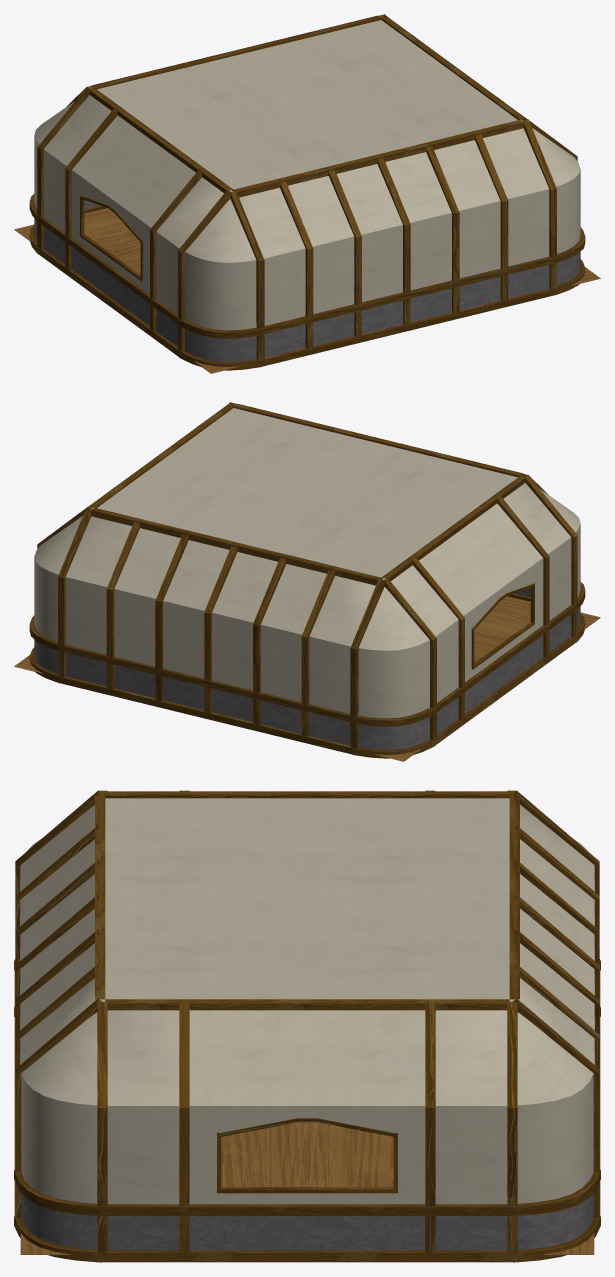
File: DefaultRoomV2.fbx
3 views of the same model, one above another, from view 1: azimuth 30°, elevation 25°; view 2: azimuth 150°, elevation 25°; view 3: azimuth 270°, elevation 25° (orthographic). The views are drawn at different scales.
Parts seen in each view (by area): view 1: Wall.002, Plane.009, Beam.002, Rock.002, Beam.003, Beam.010, Beam.001, Plane.004, Cube; view 2: Wall.002, Plane.009, Beam.002, Rock.002, Beam.003, Beam.010, Beam.001, Plane.004, Cube; view 3: Wall.002, Plane.009, Beam.002, Rock.002, Beam.003, Plane.004, Beam.010, Beam.001, Cube.
Part boxes in pixels (x1=…): Wall.002: x1=34, y1=95, x2=580, y2=330; Plane.009: x1=97, y1=20, x2=522, y2=191; Beam.002: x1=37, y1=14, x2=577, y2=360; Rock.002: x1=34, y1=200, x2=580, y2=362; Beam.003: x1=89, y1=15, x2=524, y2=197; Beam.010: x1=29, y1=194, x2=585, y2=338; Beam.001: x1=29, y1=205, x2=585, y2=370; Plane.004: x1=14, y1=208, x2=600, y2=373; Cube: x1=80, y1=195, x2=143, y2=281; Wall.002: x1=34, y1=483, x2=580, y2=718; Plane.009: x1=92, y1=408, x2=517, y2=579; Beam.002: x1=37, y1=402, x2=577, y2=748; Rock.002: x1=34, y1=588, x2=580, y2=750; Beam.003: x1=90, y1=403, x2=525, y2=585; Beam.010: x1=29, y1=582, x2=585, y2=726; Beam.001: x1=29, y1=593, x2=585, y2=758; Plane.004: x1=14, y1=596, x2=600, y2=761; Cube: x1=471, y1=583, x2=534, y2=669; Wall.002: x1=20, y1=805, x2=594, y2=1204; Plane.009: x1=102, y1=798, x2=512, y2=1001; Beam.002: x1=15, y1=790, x2=599, y2=1252; Rock.002: x1=21, y1=1193, x2=593, y2=1250; Beam.003: x1=95, y1=791, x2=519, y2=1010; Plane.004: x1=20, y1=1122, x2=594, y2=1254; Beam.010: x1=14, y1=959, x2=600, y2=1216; Beam.001: x1=14, y1=1007, x2=600, y2=1262; Cube: x1=217, y1=1118, x2=397, y2=1193.
Bounding box in the file's own units: 16.32 × 14.32 × 6.05.
